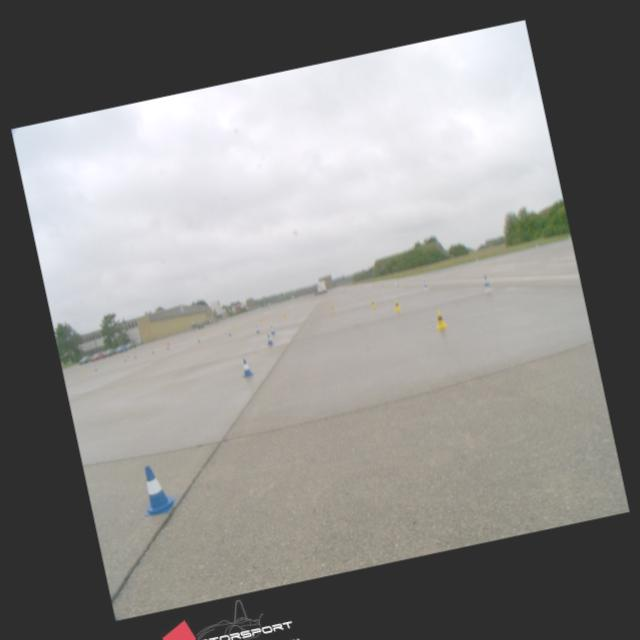blue_cone: (134, 460, 178, 516), (238, 358, 252, 377), (264, 332, 273, 344)
yellow_cone: (432, 308, 447, 328), (392, 298, 402, 312)
